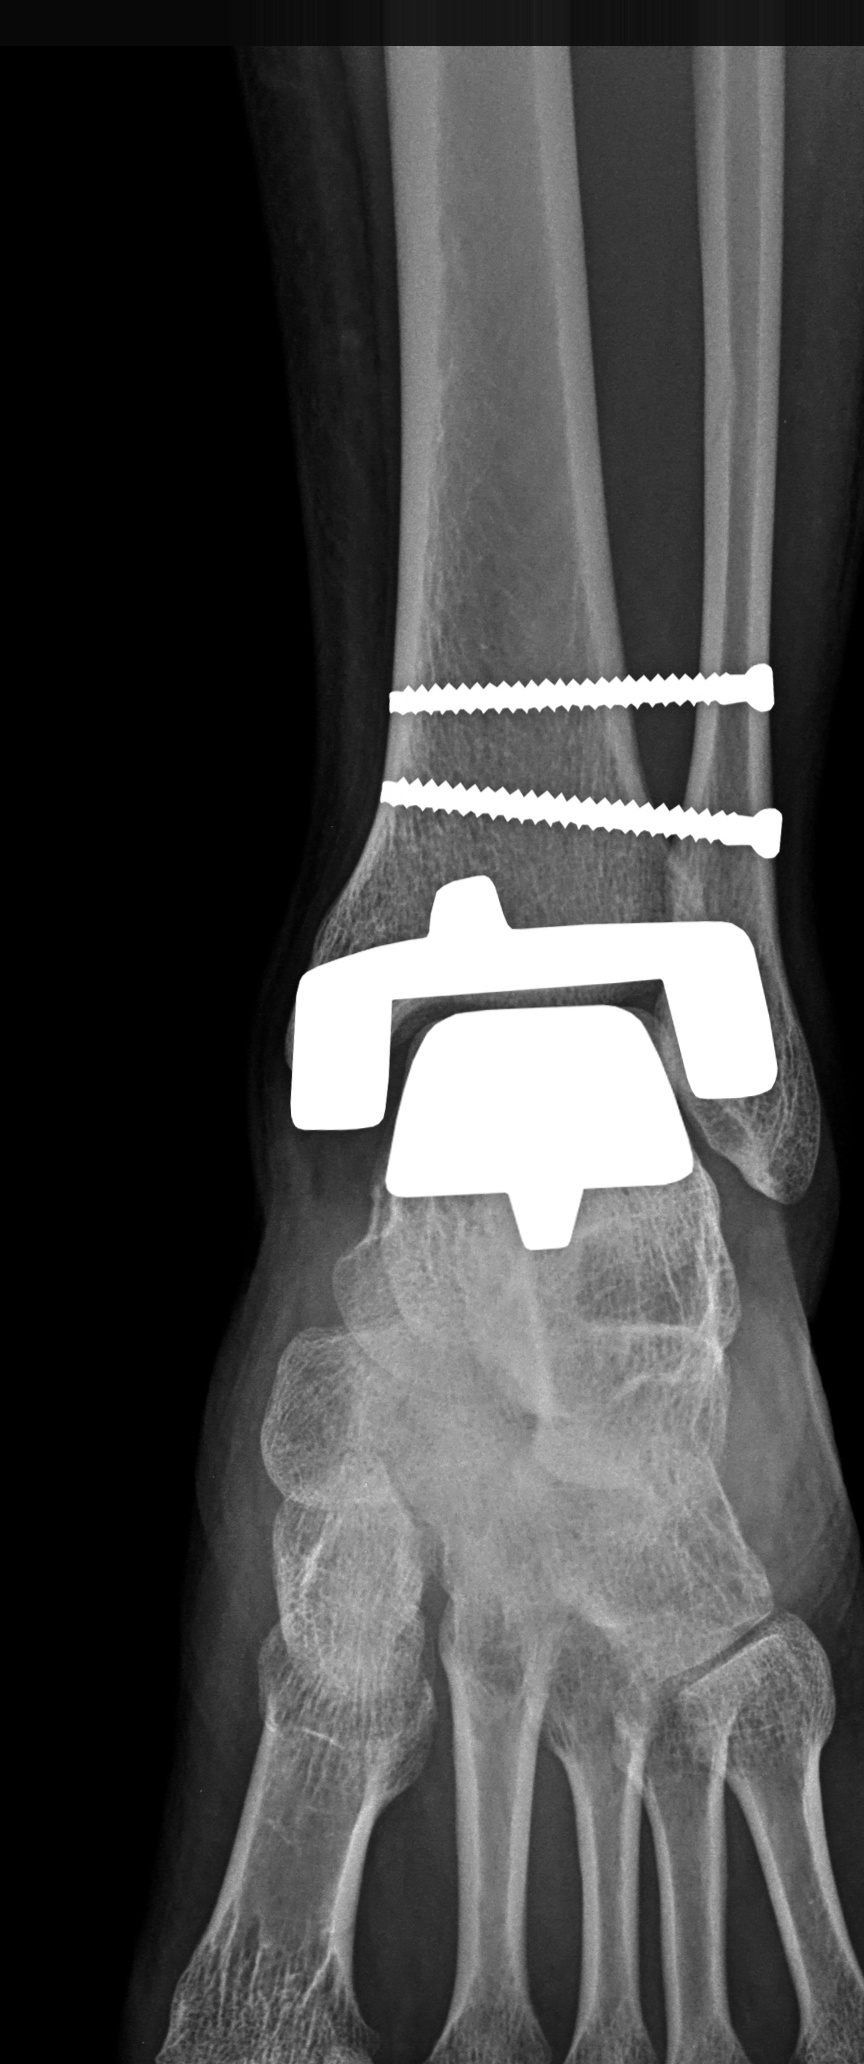Agility-Depuy: (279, 665, 788, 1262)
